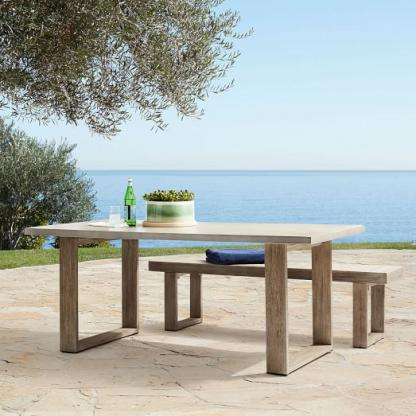table: (22, 214, 370, 378)
